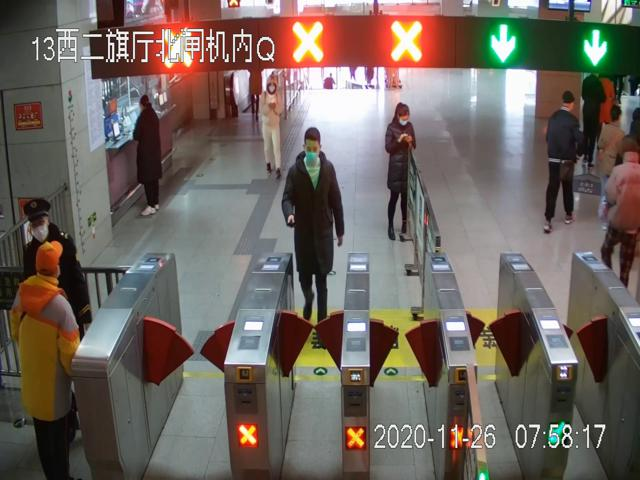person: (10, 238, 87, 480), (280, 127, 348, 328), (16, 193, 91, 335), (539, 91, 583, 236), (602, 132, 640, 285), (128, 92, 169, 222), (385, 101, 421, 243), (575, 68, 605, 168), (259, 75, 284, 177)
